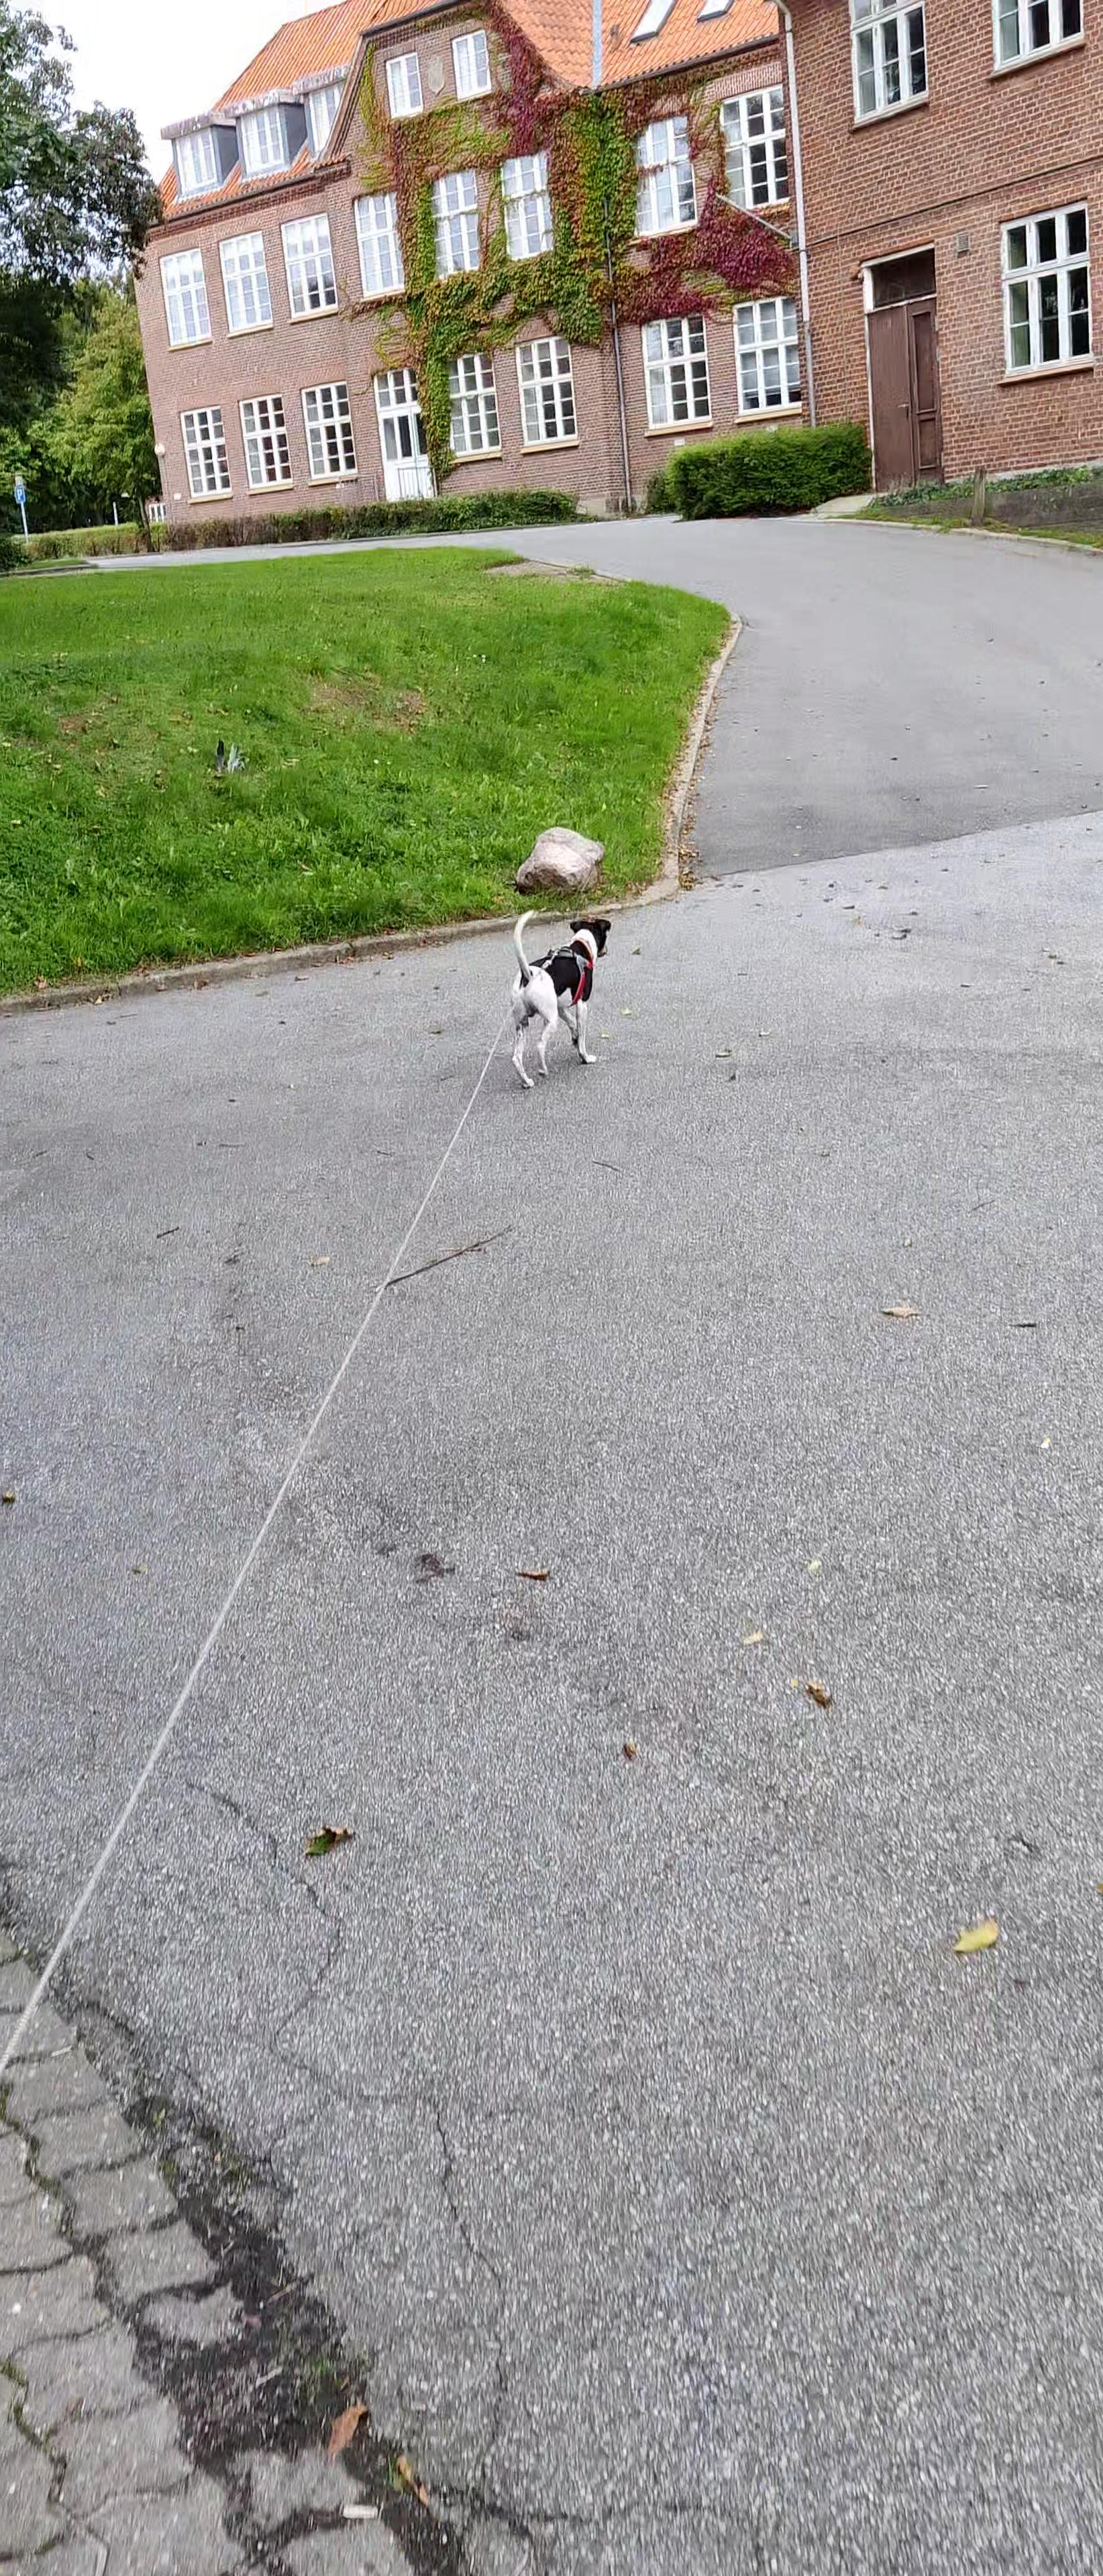Dog: (503, 907, 616, 1091)
